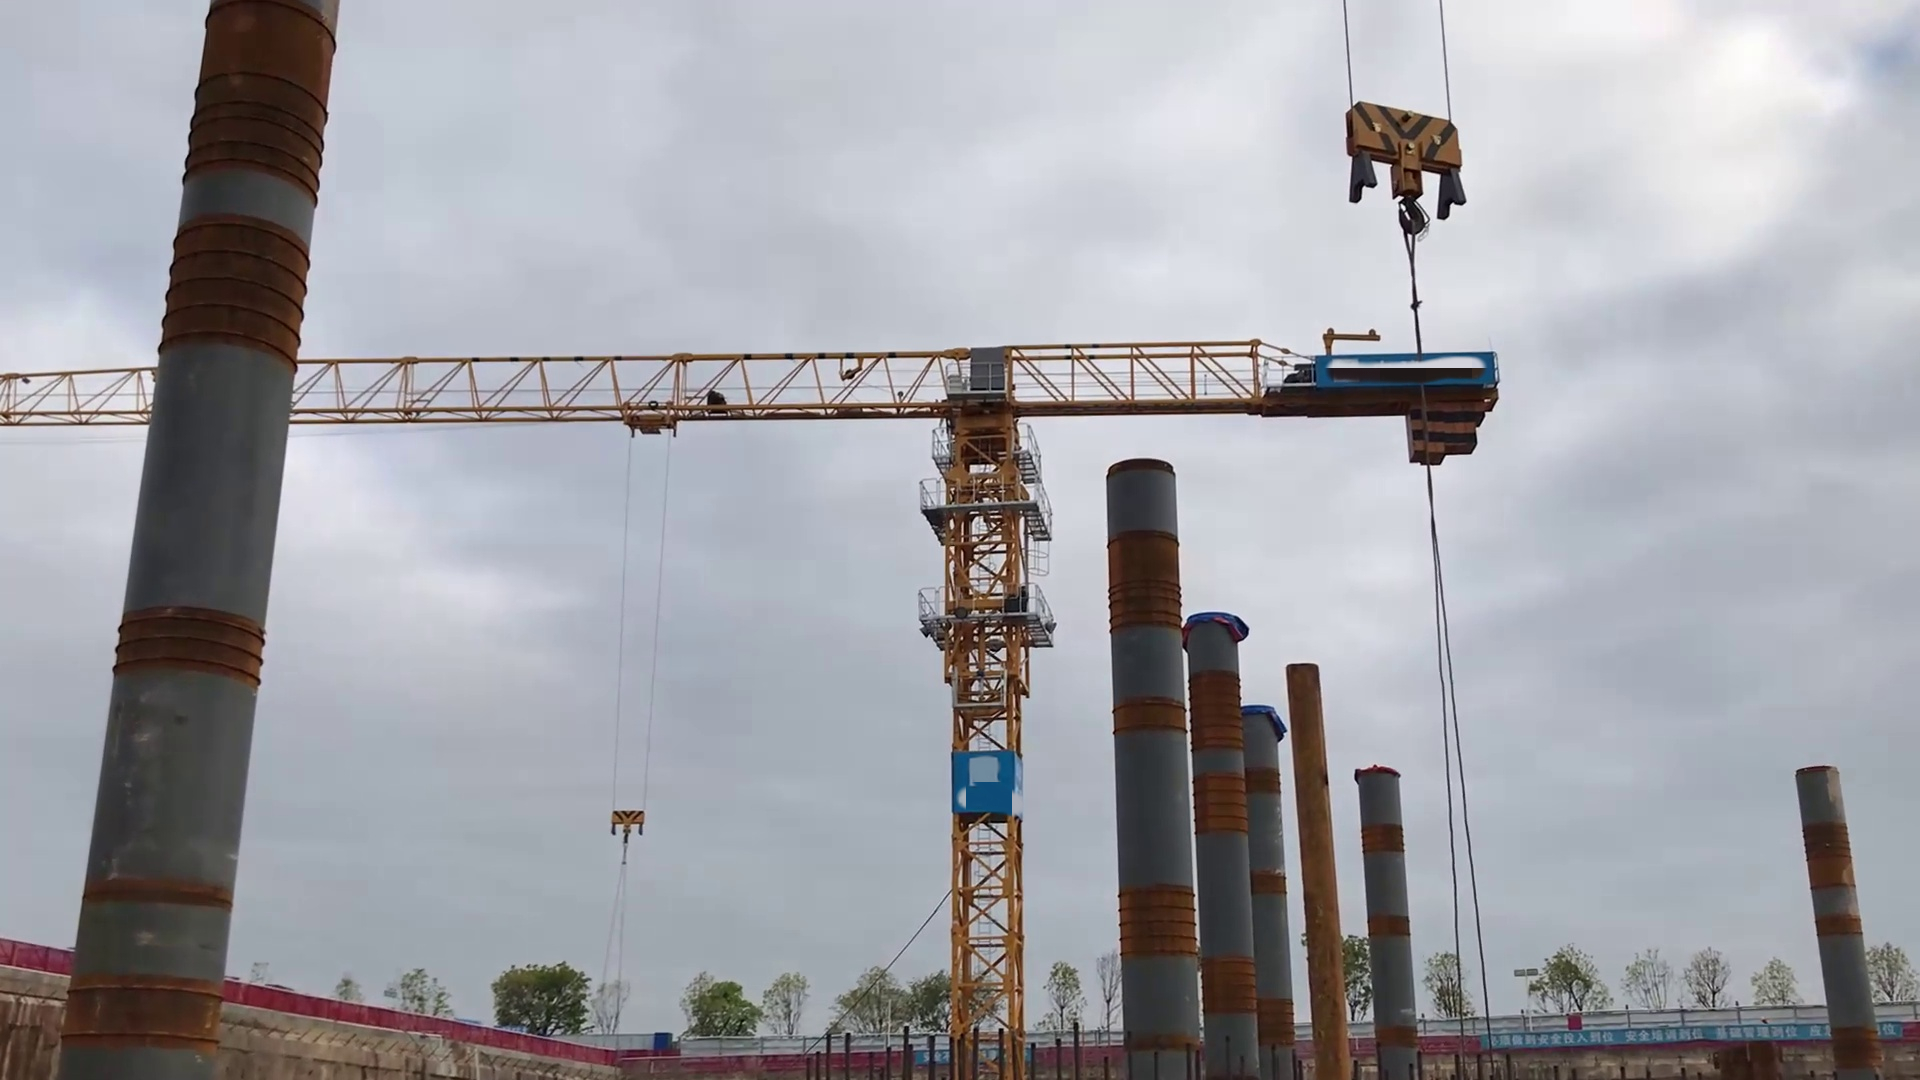hook: (1333, 94, 1476, 249), (607, 804, 650, 851)
slogan: (1480, 1023, 1903, 1050)
